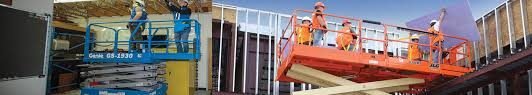Scissor Lift: (76, 14, 203, 93)
